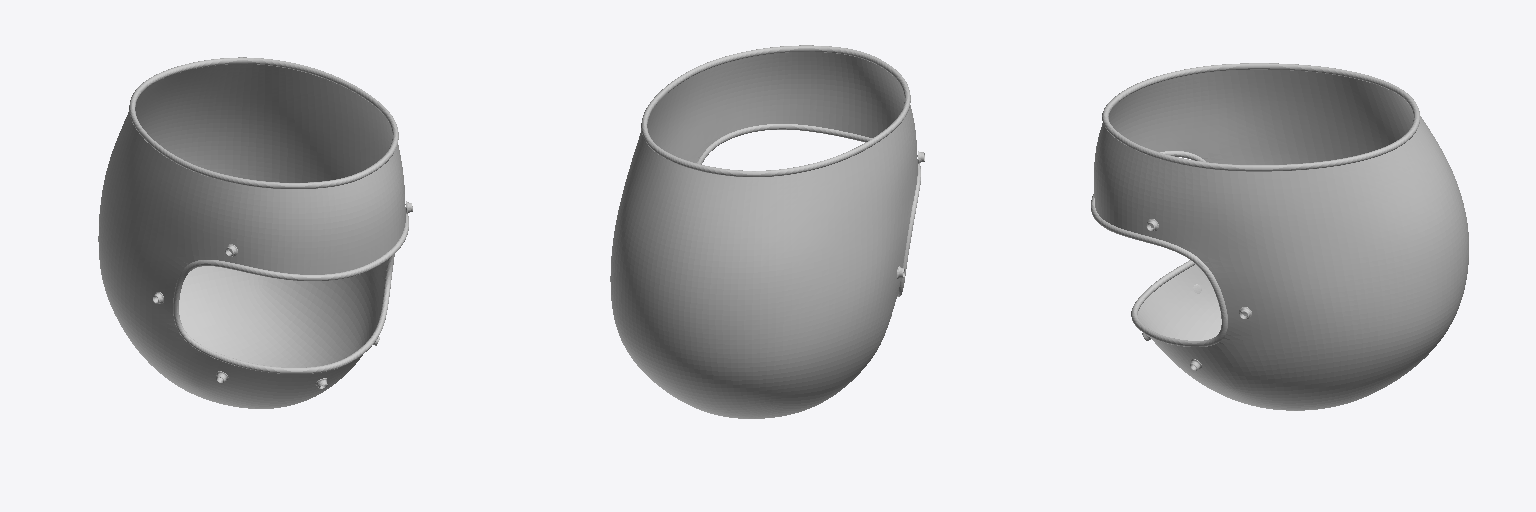
The model's file is Casque.obj.
The picture shows the model from 3 angles: view 1: azimuth 30°, elevation 25°; view 2: azimuth 150°, elevation 25°; view 3: azimuth 270°, elevation 25°; orthographic projection.
Parts seen in each view (by area): view 1: Casque.001_Roundcube.002; view 2: Casque.001_Roundcube.002; view 3: Casque.001_Roundcube.002.
Boxes of the visible parts, <box> form: Casque.001_Roundcube.002: <box>98,57,412,408</box>; Casque.001_Roundcube.002: <box>610,45,924,418</box>; Casque.001_Roundcube.002: <box>1091,63,1468,410</box>.
Size of the model in its own units: 3.42 by 3.85 by 4.67.